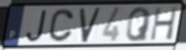4: (101, 5, 122, 44)
C: (47, 8, 76, 43)
H: (149, 7, 179, 42)
J: (26, 9, 49, 43)
Q: (125, 6, 153, 43)
V: (79, 6, 103, 44)
